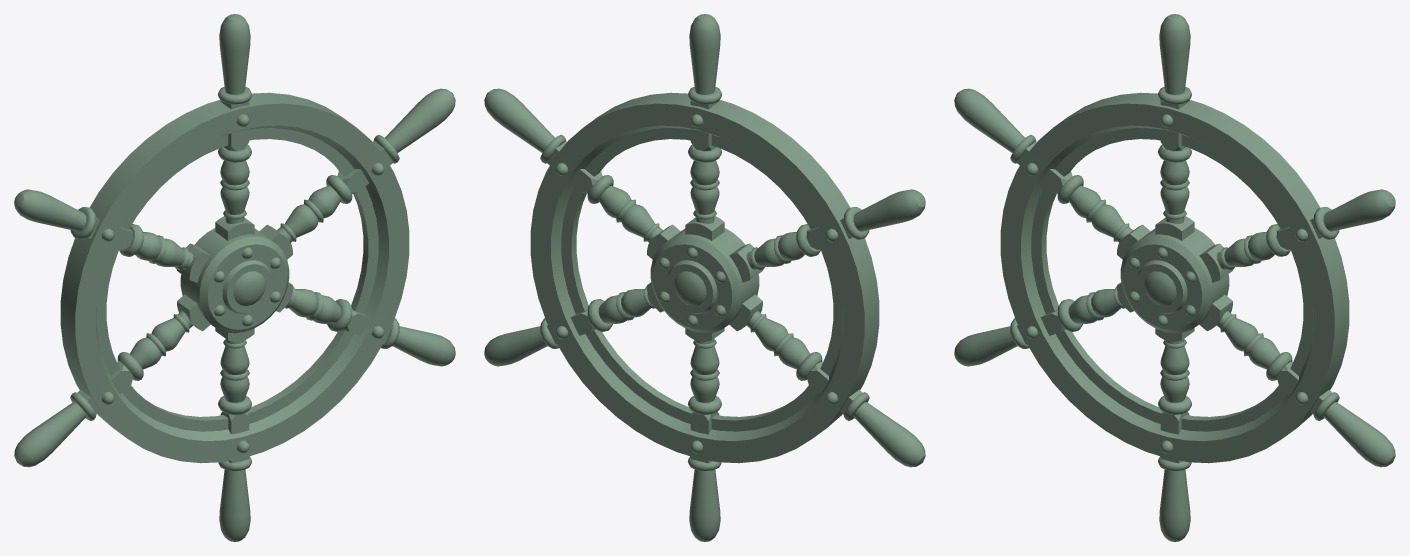
The model's file is SM_Pirate_Handwheel.fbx.
The picture shows the model from 3 angles, left to right: view 1: azimuth 30°, elevation 25°; view 2: azimuth 150°, elevation 25°; view 3: azimuth 330°, elevation 25°; orthographic projection.
Parts seen in each view (by area): view 1: SM_Pirate_Handwheel; view 2: SM_Pirate_Handwheel; view 3: SM_Pirate_Handwheel.
Boxes of the visible parts, x1,y1,x2,y2 form: SM_Pirate_Handwheel: [14, 14, 455, 541]; SM_Pirate_Handwheel: [484, 14, 925, 541]; SM_Pirate_Handwheel: [954, 14, 1395, 541].
Bounding box in the file's own units: 1.08 × 1.24 × 0.1506.
